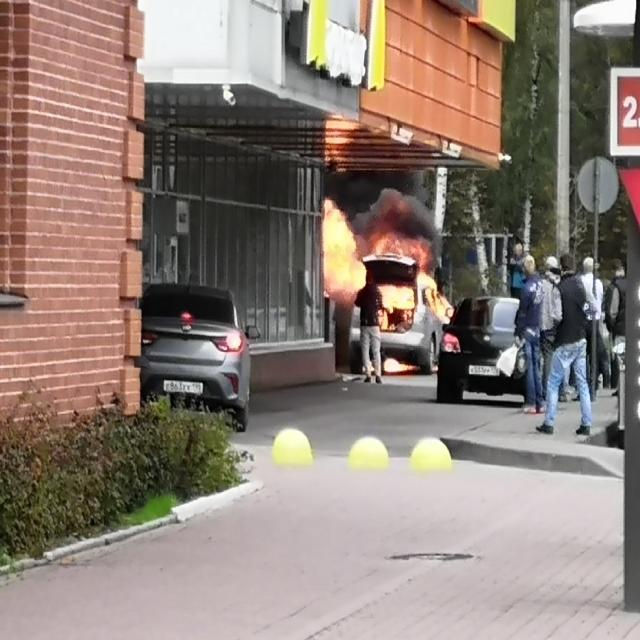Fire: (381, 272, 454, 331), (322, 201, 364, 291)
Smoke: (356, 188, 441, 272)
